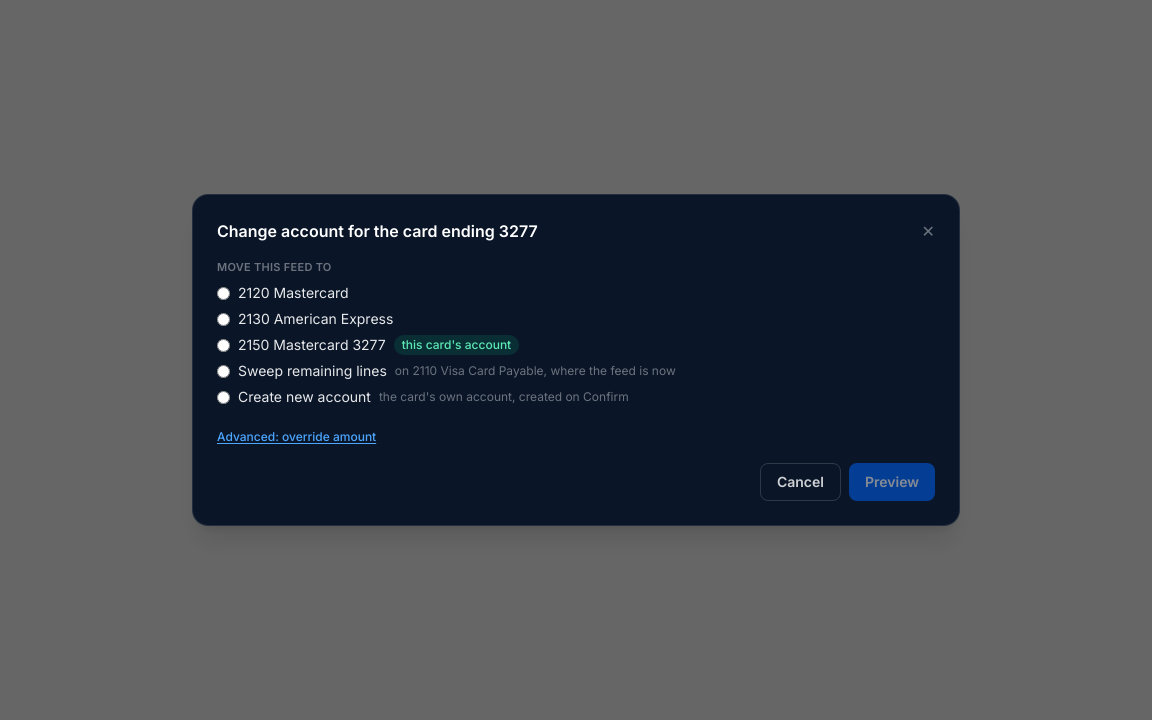
Scenario: card change: what the feed can move to › offers Create new account only when the server says one would be created
Check: the radio button labelled "Sweep remaining lines" is shown, box [217, 365, 230, 378]
What coordinates should you click on to do the following:
click the radio button labelled "Create new account"
I would click on:
 (224, 397)
Its box is [217, 391, 230, 404].
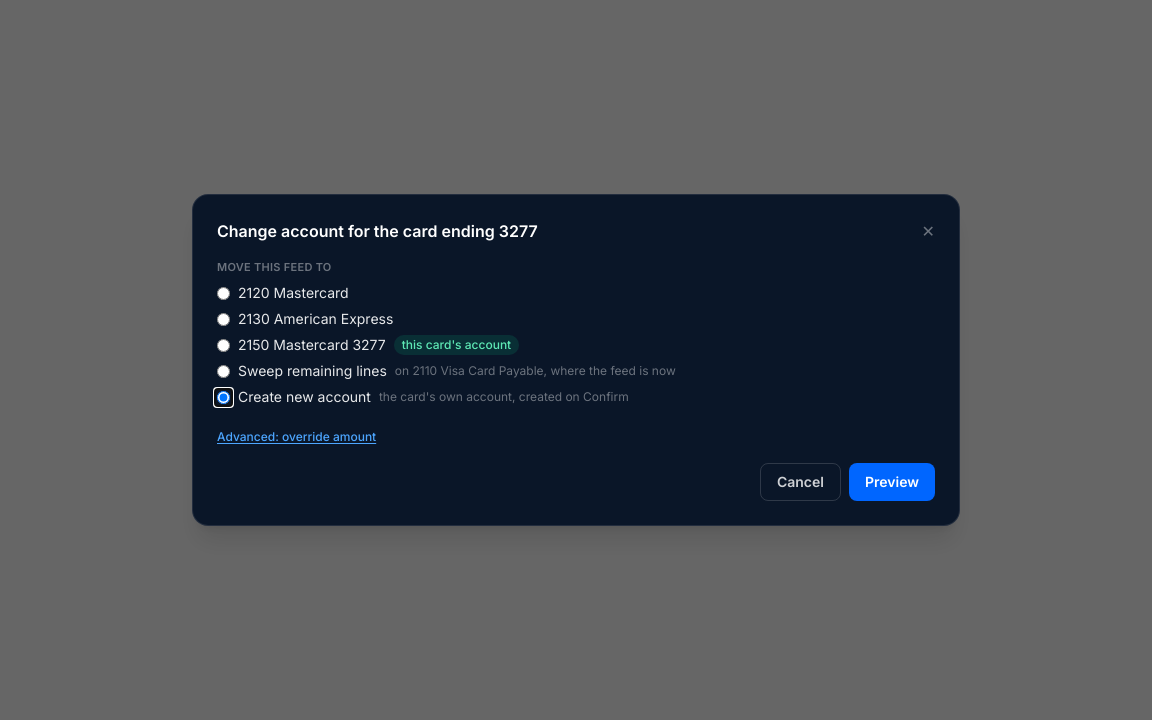
What coordinates should you click on to do the following:
click the button "Preview"
I would click on:
 (892, 482)
Its box is [849, 463, 935, 501].
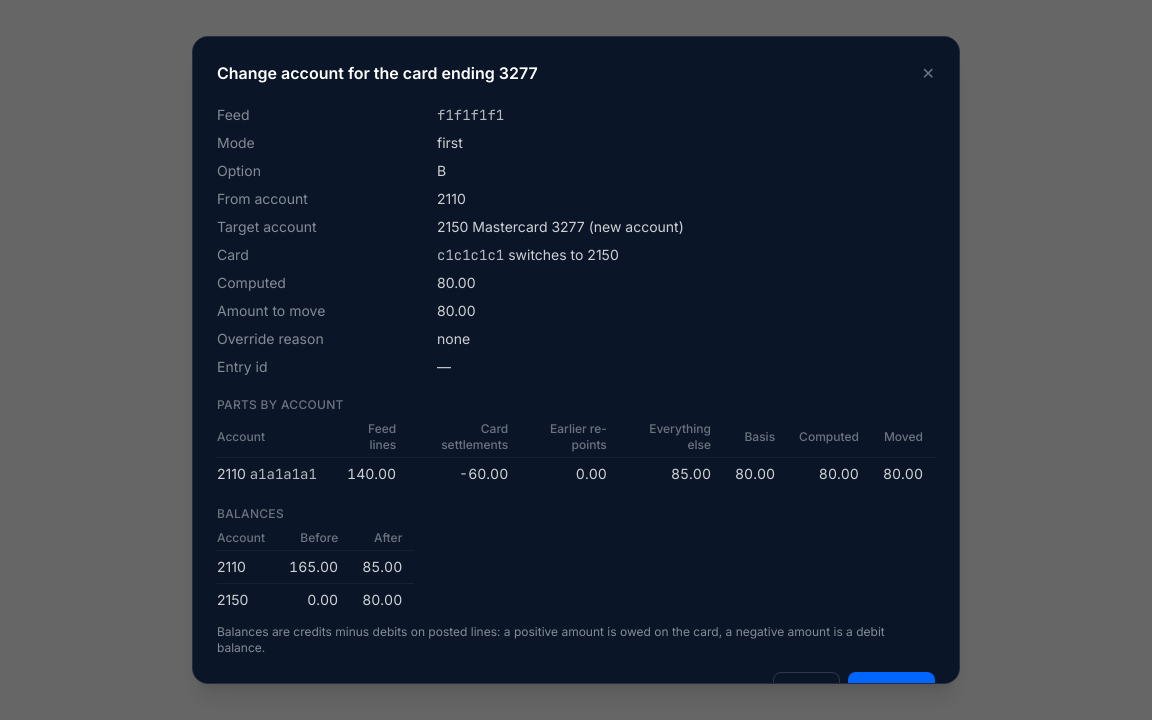
Check: the element named "Re-point plan" is shown, box [217, 101, 935, 656]
